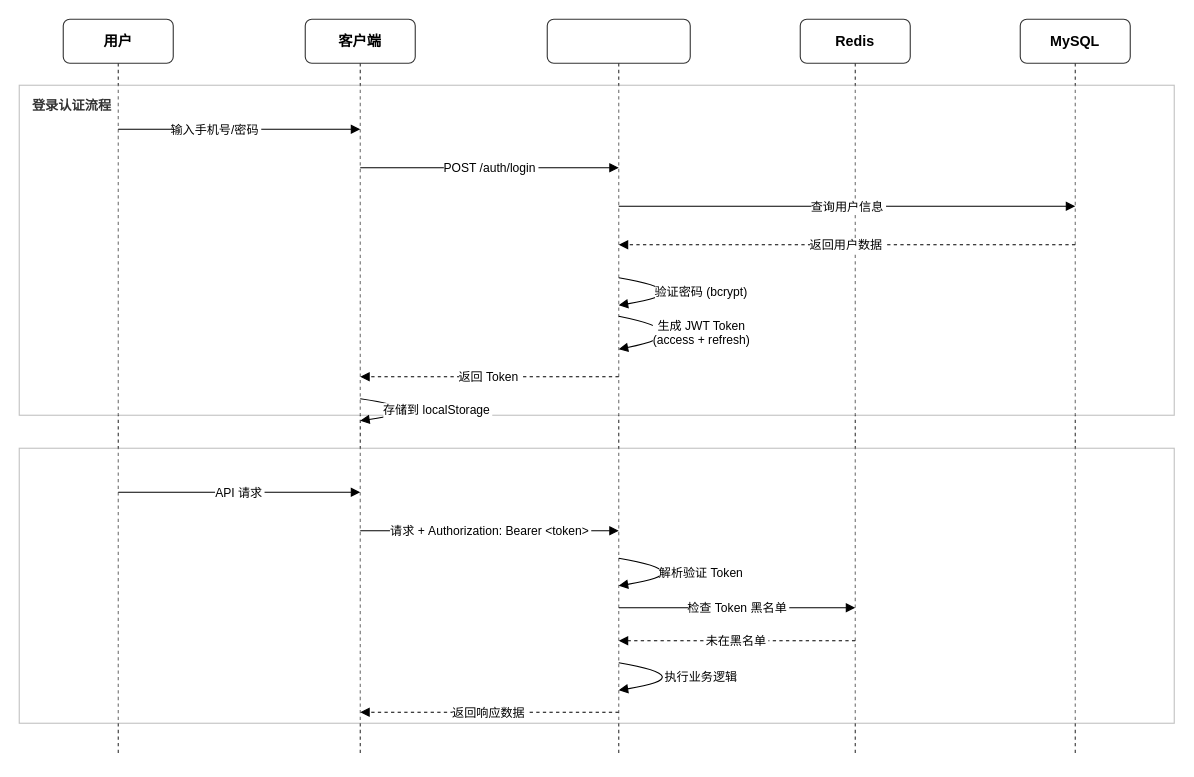
Some shapes in this 1194 by 777 pixel diagram are drawn without their labels. The centre of each missing label's shape, as x and y in pixels:
"后续请求认证" belongs at point (596, 585).
"服务端（Gin）" belongs at point (618, 40).
